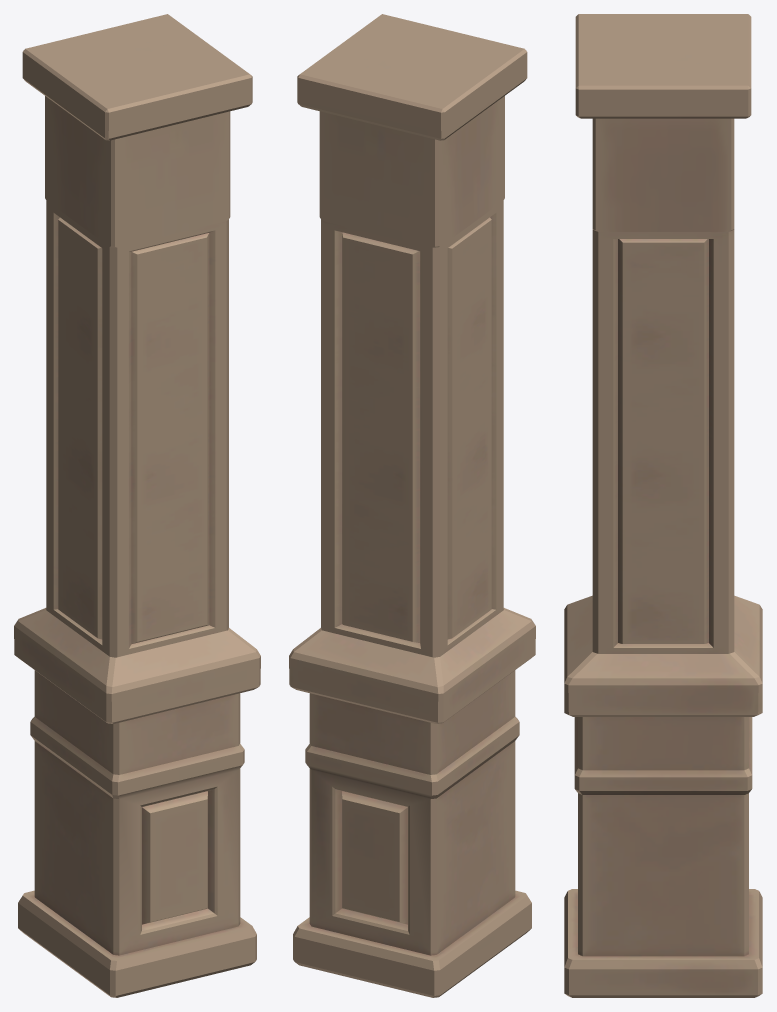
File: column2Base (1).fbx
The picture shows the model from 3 angles, left to right: view 1: azimuth 30°, elevation 25°; view 2: azimuth 150°, elevation 25°; view 3: azimuth 270°, elevation 25°; orthographic projection. The views are drawn at different scales.
Visible parts, largest first — view 1: column2Middle1, column2Base (1), column2Top; view 2: column2Middle1, column2Base (1), column2Top; view 3: column2Base (1), column2Middle1, column2Top.
Boxes of the visible parts, x1,y1,x2,y2 form: column2Middle1: (46, 201, 228, 657); column2Base (1): (14, 608, 260, 997); column2Top: (22, 14, 252, 247); column2Middle1: (321, 201, 503, 657); column2Base (1): (289, 608, 535, 997); column2Top: (297, 14, 527, 247); column2Base (1): (564, 595, 762, 997); column2Middle1: (592, 230, 734, 653); column2Top: (575, 14, 751, 231).
Size of the model in its own units: 296 by 1620 by 319.
